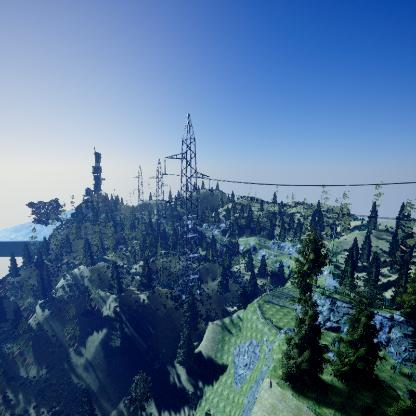tower: (159, 110, 216, 314)
